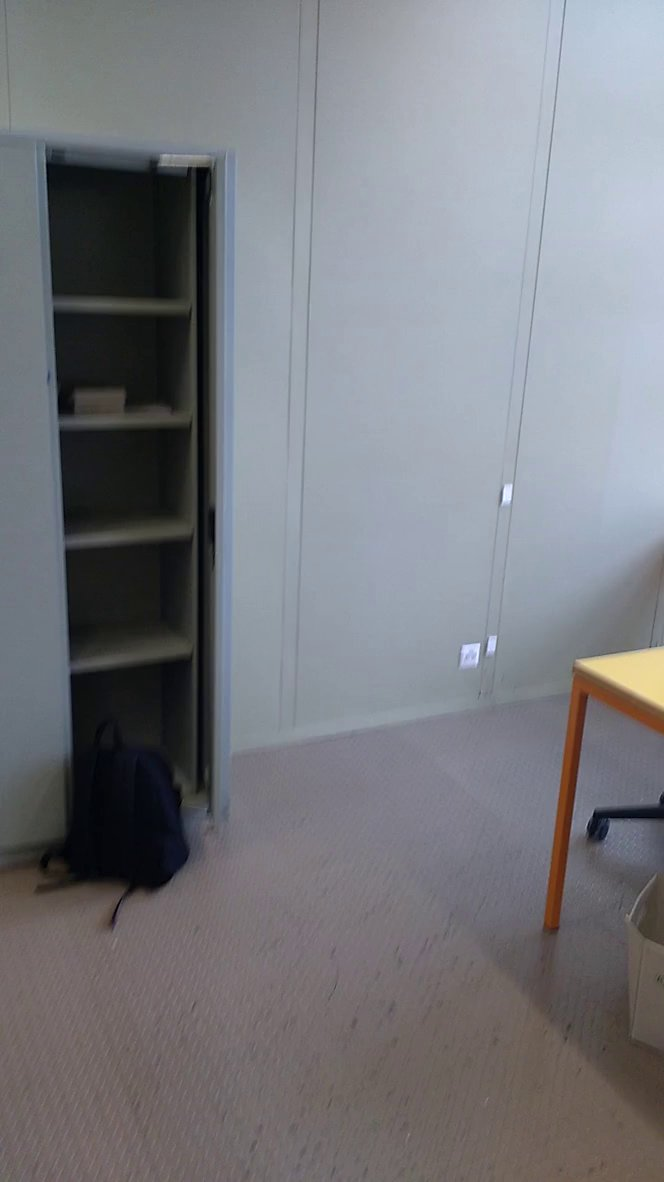bag: (36, 713, 199, 902)
